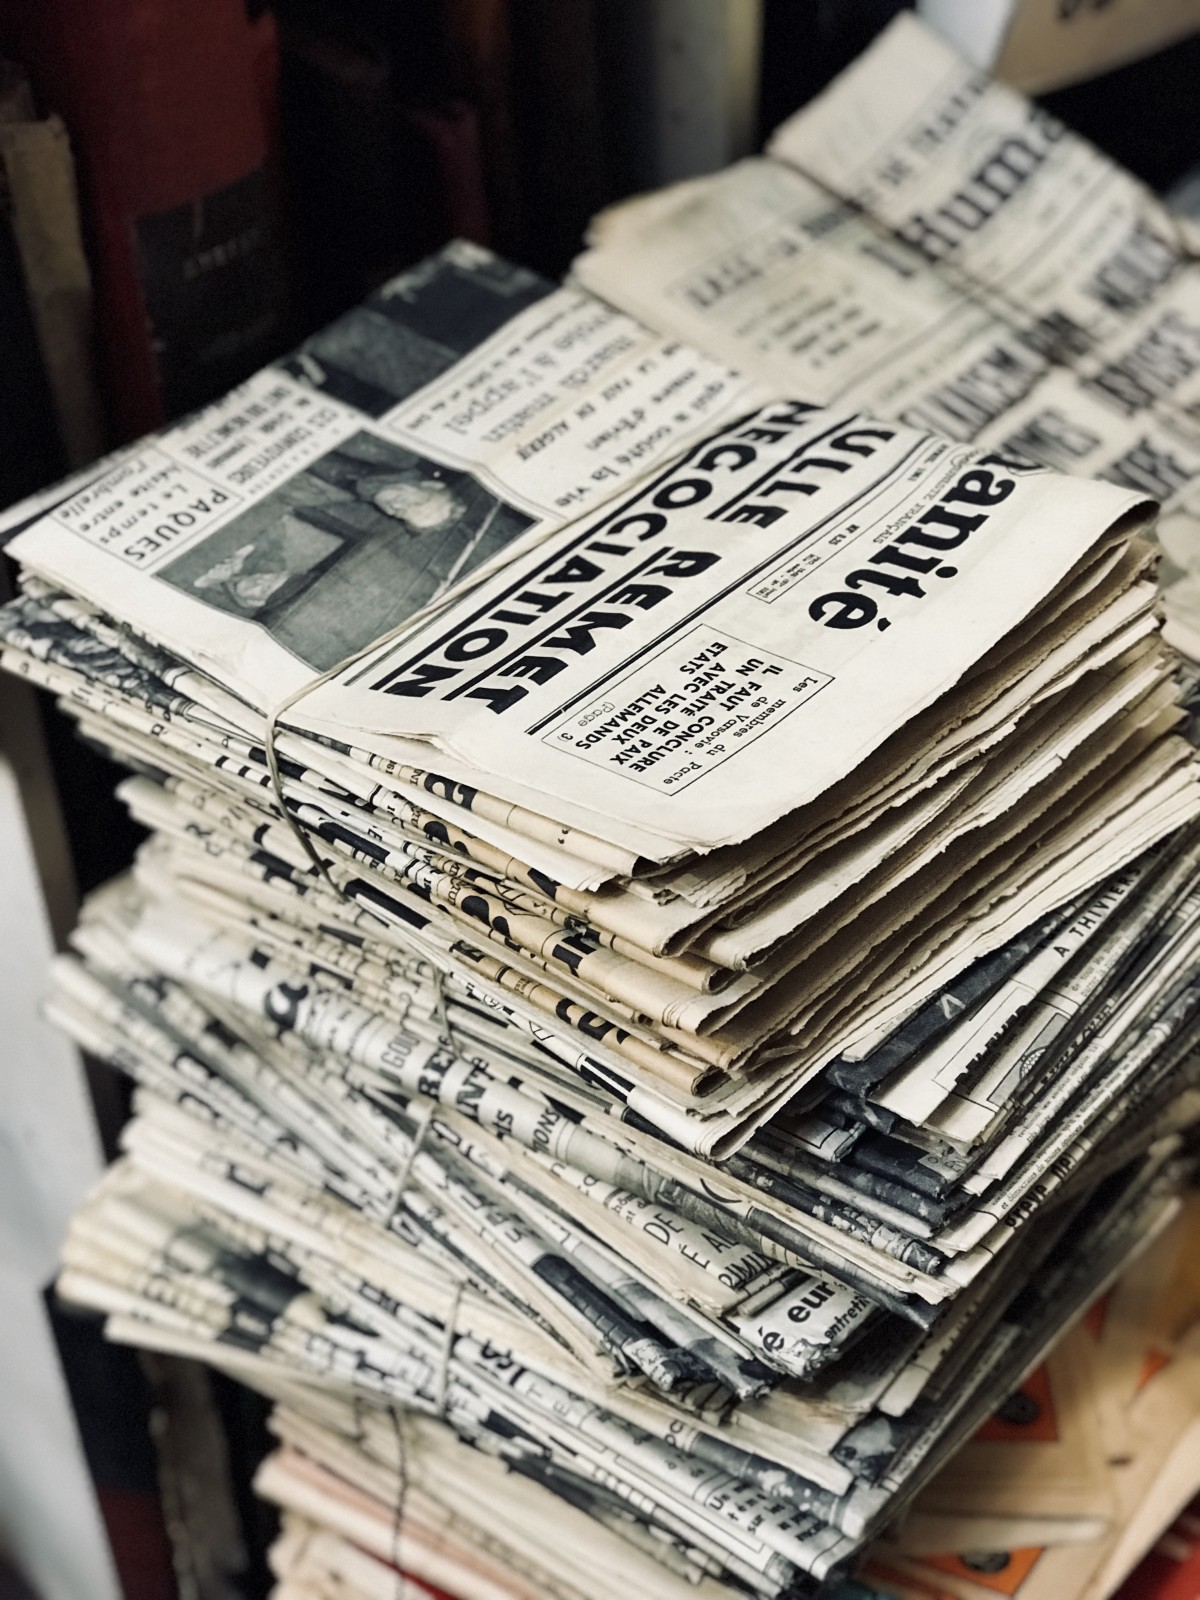news_paper: (3, 149, 1200, 1220)
